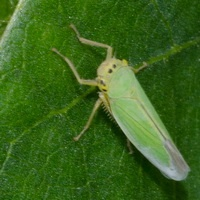insect: (52, 24, 189, 180)
